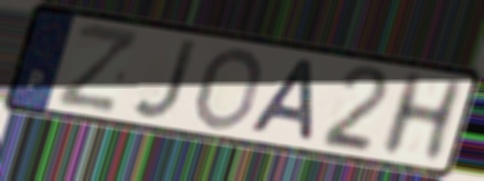2: (319, 62, 393, 156)
A: (245, 56, 320, 146)
H: (374, 69, 470, 163)
J: (130, 38, 202, 123)
O: (191, 44, 266, 133)
Z: (53, 20, 143, 115)
